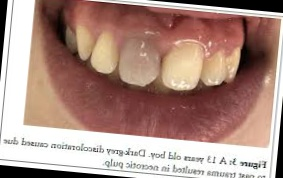Tooth Discoloration: (109, 32, 164, 91)
